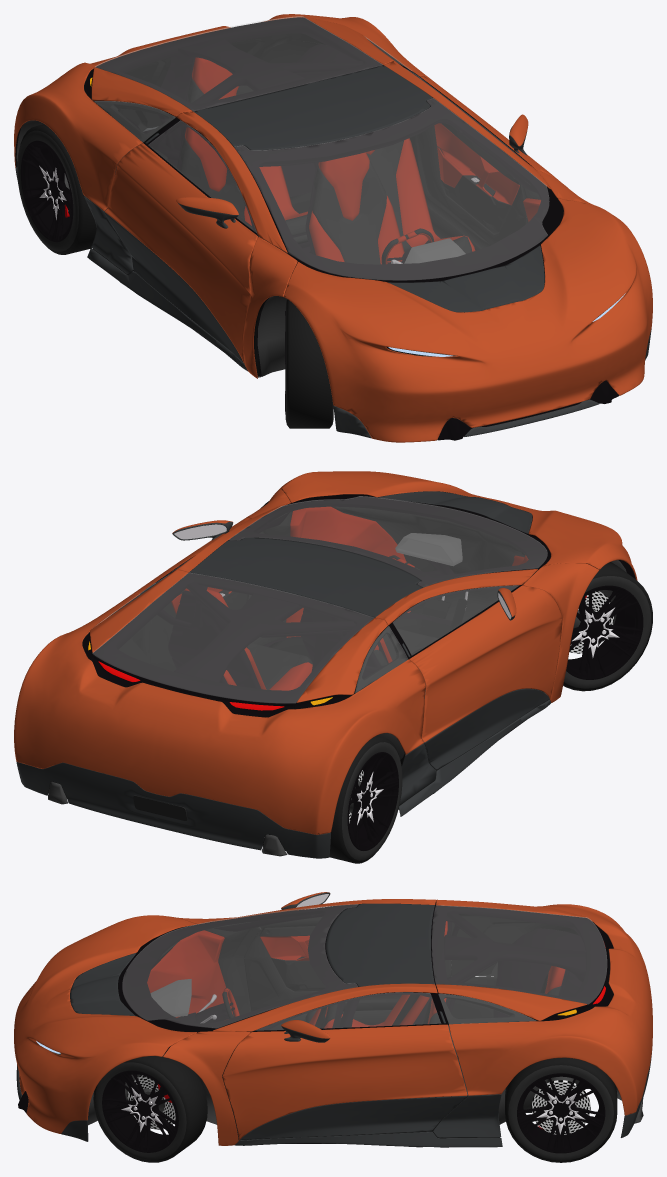
The model's file is car.glb.
3 views of the same model, one above another, from view 1: azimuth 30°, elevation 25°; view 2: azimuth 150°, elevation 25°; view 3: azimuth 270°, elevation 25° (orthographic). The views are drawn at different scales.
Parts seen in each view (by area): view 1: BodyHood, BodyWindshield, BodyRearwindow, BodyDoorRColor1, BodyRearPanelsColor1, BodyWindshieldGasket, BodyRoofPanel, InteriorSeatsColor1, InteriorSeatsColor2, BodyPillars, InteriorPillar, InteriorRearHatch (+20 smaller); view 2: BodyRearPanelsColor1, BodyRearwindow, BodyWindshield, BodyDoorRColor1, BodyPanelsColor2, BodyRoofPanel, BodyHood, InteriorRearHatch, BodyPillars, InteriorPillar, BodyWindshieldGasket, InteriorDashMid (+21 smaller); view 3: BodyWindshield, BodyRearPanelsColor1, BodyDoorLColor1, BodyHood, BodyRearwindow, BodyRoofPanel, BodyPillars, BodyWindshieldGasket, BodyDoorLColor2, BodyPanelsColor2, WheelFrontL, InteriorRearHatch (+24 smaller).
Boxes of the visible parts, left/top/right/bottom form: BodyHood: left=283, top=198, right=652, bottom=442; BodyWindshield: left=234, top=98, right=549, bottom=280; BodyRearwindow: left=95, top=16, right=382, bottom=110; BodyDoorRColor1: left=104, top=143, right=257, bottom=362; BodyRearPanelsColor1: left=14, top=14, right=428, bottom=210; BodyWindshieldGasket: left=234, top=99, right=563, bottom=282; BodyRoofPanel: left=193, top=65, right=432, bottom=150; InteriorSeatsColor1: left=185, top=57, right=475, bottom=264; InteriorSeatsColor2: left=180, top=78, right=472, bottom=264; BodyPillars: left=176, top=61, right=598, bottom=378; InteriorPillar: left=158, top=37, right=434, bottom=168; InteriorRearHatch: left=93, top=17, right=383, bottom=117; BodyRearPanelsColor1: left=14, top=569, right=425, bottom=834; BodyRearwindow: left=92, top=573, right=373, bottom=703; BodyWindshield: left=229, top=496, right=547, bottom=587; BodyDoorRColor1: left=409, top=585, right=562, bottom=742; BodyPanelsColor2: left=16, top=700, right=550, bottom=858; BodyRoofPanel: left=189, top=537, right=422, bottom=617; BodyHood: left=279, top=471, right=637, bottom=580; InteriorRearHatch: left=93, top=573, right=386, bottom=707; BodyPillars: left=175, top=489, right=599, bottom=702; InteriorPillar: left=174, top=574, right=417, bottom=682; BodyWindshieldGasket: left=230, top=495, right=550, bottom=587; InteriorDashMid: left=331, top=503, right=528, bottom=622; BodyWindshield: left=122, top=904, right=357, bottom=1028; BodyRearPanelsColor1: left=436, top=899, right=652, bottom=1115; BodyDoorLColor1: left=222, top=1024, right=467, bottom=1139; BodyHood: left=14, top=915, right=196, bottom=1133; BodyRearwindow: left=432, top=905, right=606, bottom=1003; BodyRoofPanel: left=326, top=903, right=434, bottom=986; BodyPillars: left=163, top=899, right=437, bottom=1145; BodyWindshieldGasket: left=118, top=905, right=357, bottom=1032; BodyDoorLColor2: left=240, top=1096, right=467, bottom=1140; BodyPanelsColor2: left=16, top=1050, right=652, bottom=1147; WheelFrontL: left=93, top=1054, right=207, bottom=1162; InteriorRearHatch: left=431, top=905, right=606, bottom=1020.
Bounding box in the file's own units: 2.54 × 1.15 × 4.36.
Materials: 23 (3 with a texture image).
